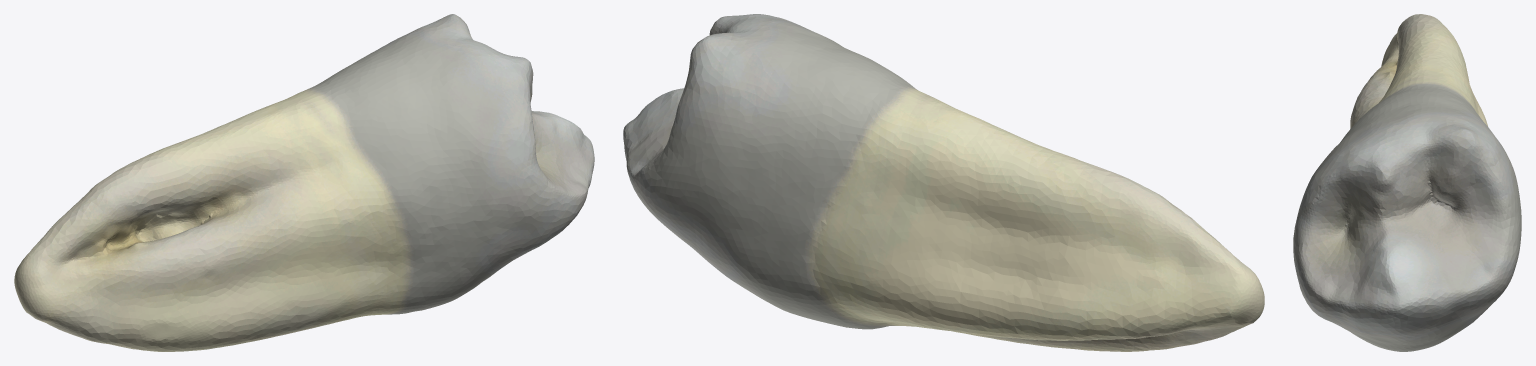
Rendered from 35 quiz.glb.
3 views of the same model, side by side, from view 1: azimuth 30°, elevation 25°; view 2: azimuth 150°, elevation 25°; view 3: azimuth 270°, elevation 25° (orthographic). The views are drawn at different scales.
Parts seen in each view (by area): view 1: 3MFMeshParent_0; view 2: 3MFMeshParent_0; view 3: 3MFMeshParent_0.
Part boxes in pixels (x1,y1,x2,y2): 3MFMeshParent_0: [14, 14, 594, 351]; 3MFMeshParent_0: [623, 14, 1264, 351]; 3MFMeshParent_0: [1293, 14, 1521, 351].
Bounding box in the file's own units: 0.512 × 0.212 × 0.1801.
1 material, 1 textured.
